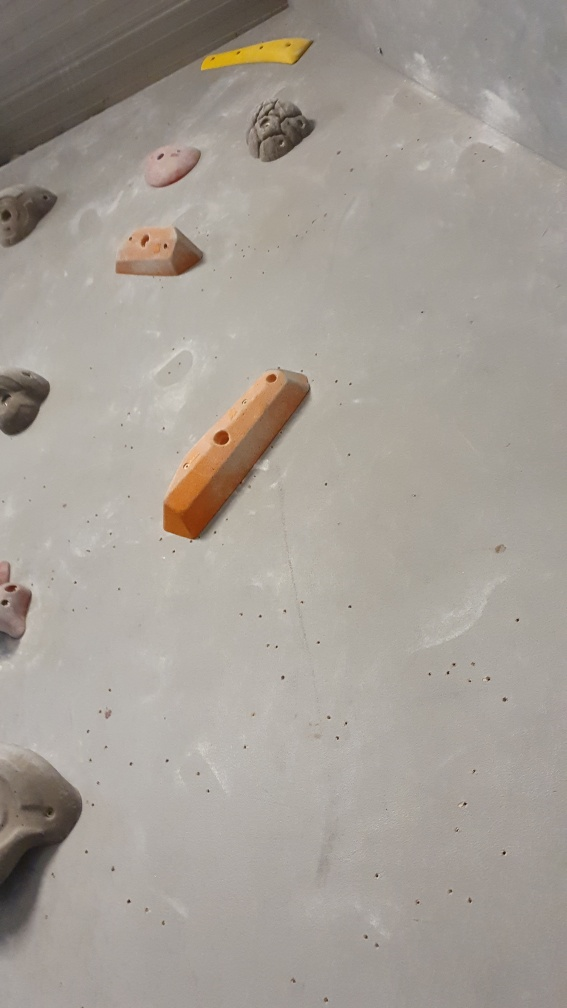Crimp: (199, 33, 316, 73)
Jug: (244, 95, 313, 165)
Pinch: (156, 364, 315, 540), (110, 225, 205, 282)
